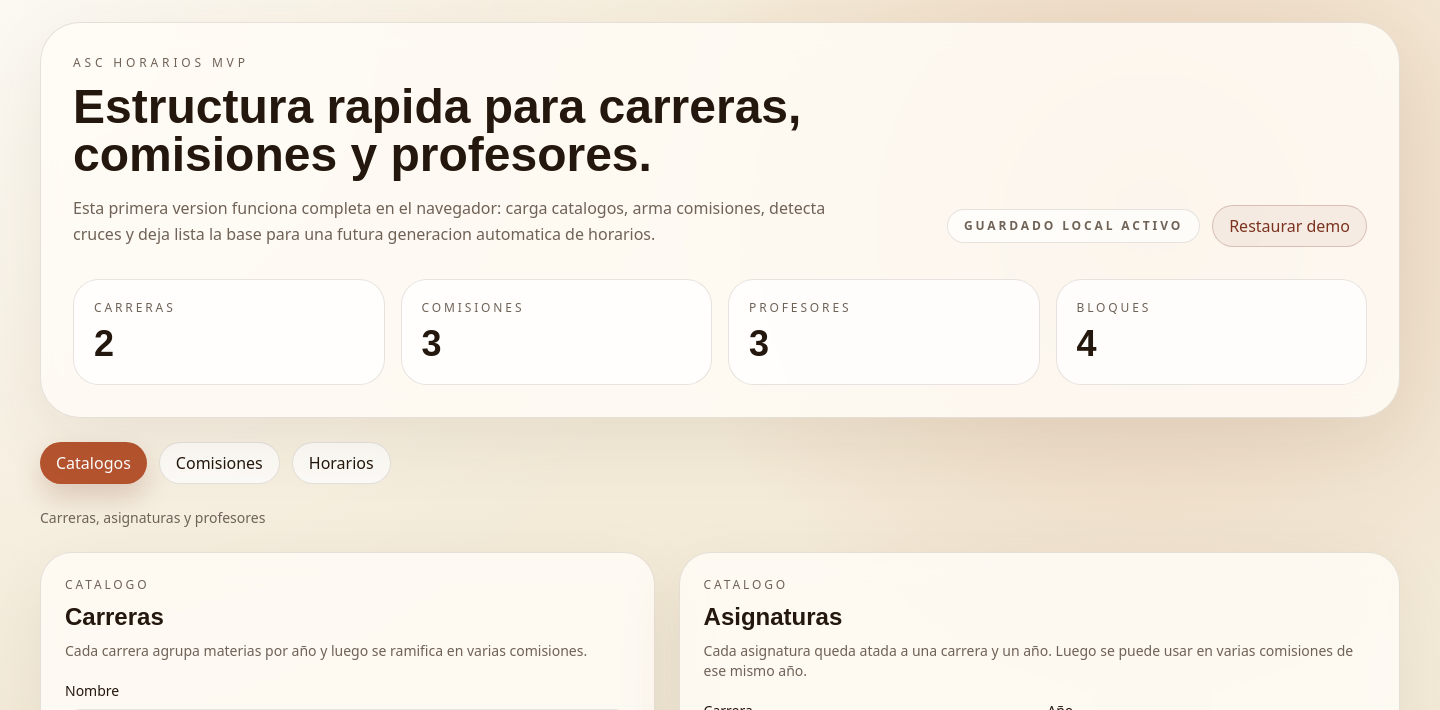
Test: AppShell › lets the user save a pending block and shows it in the pending pool
Click the button "Horarios".
click(341, 463)  # box [292,442,391,484]
(page scrolled)
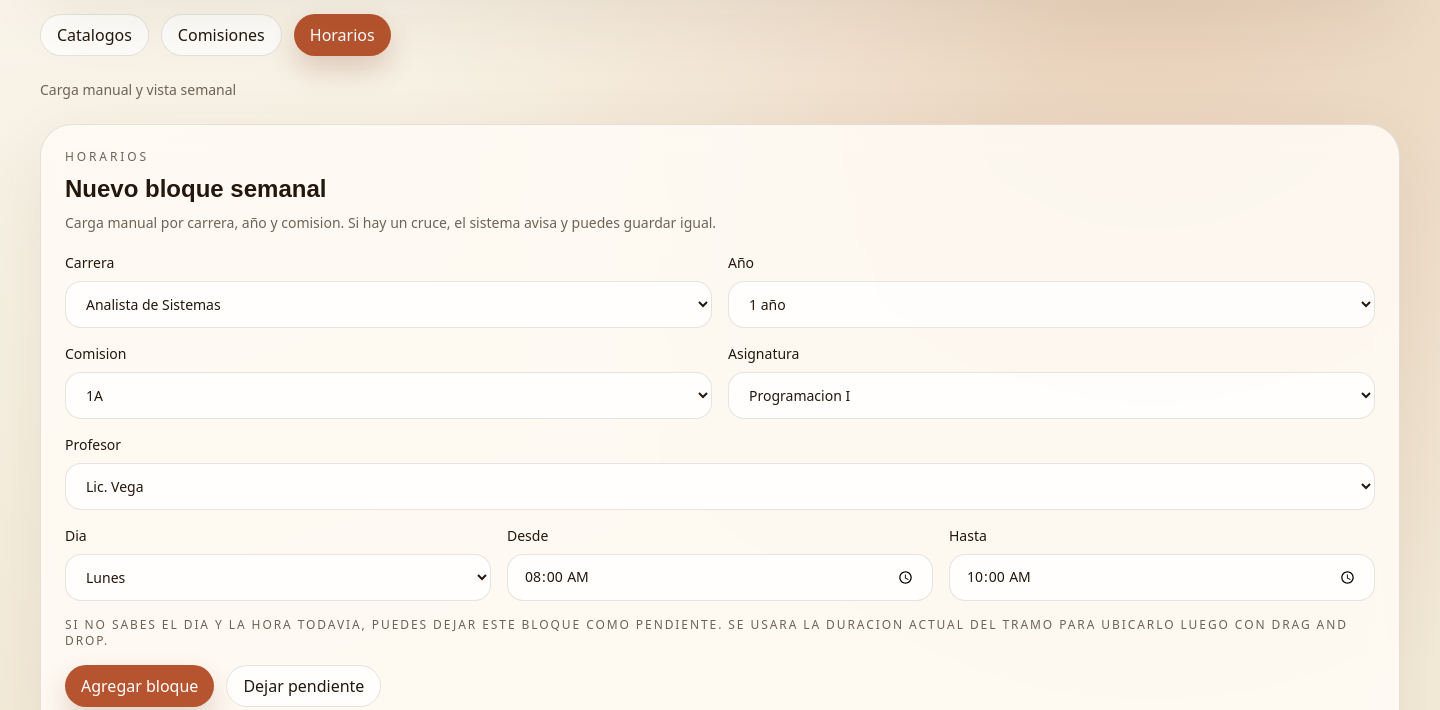
Select "Arquitectura de Computadoras" in the dropdown labelled "Asignatura" at (1052, 396), box [728,372,1375,419]
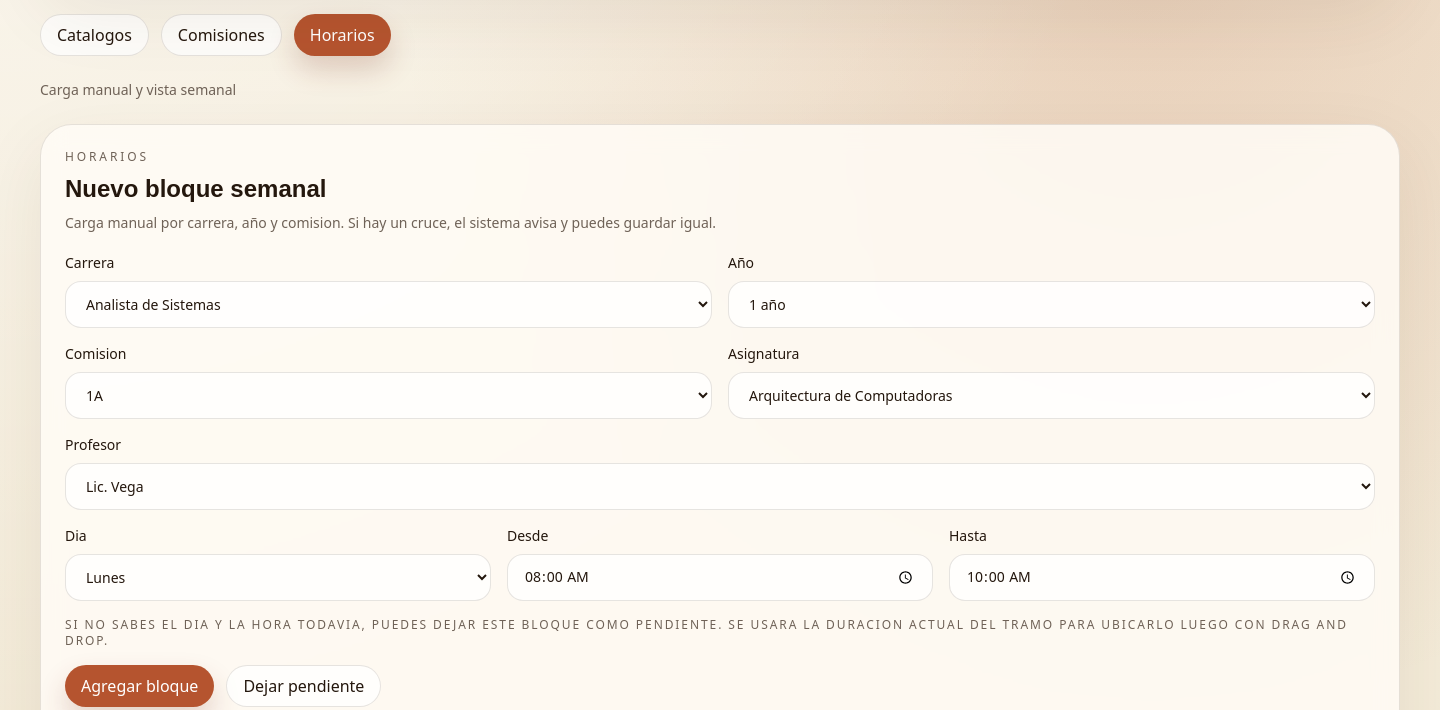
Click the button "Dejar pendiente".
click(304, 686)  # box [226,665,381,707]
(page scrolled)
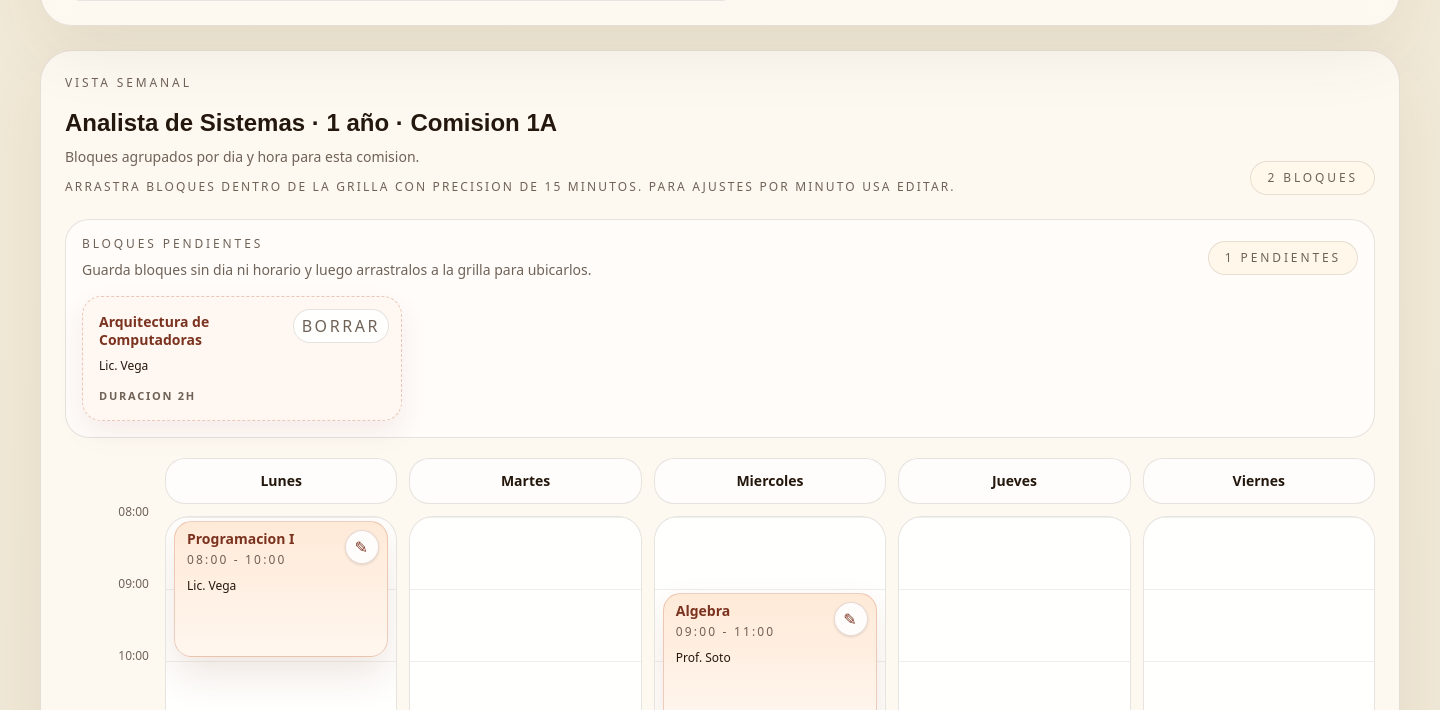
expect the text "Arquitectura de Computadoras" is shown: met, box [99,312,209,348]
expect the text "Lic. Vega" below "Bloques pendientes" is shown: met, box [99,357,148,374]
expect the text "Duracion 2h" is shown: met, box [99,388,196,402]
